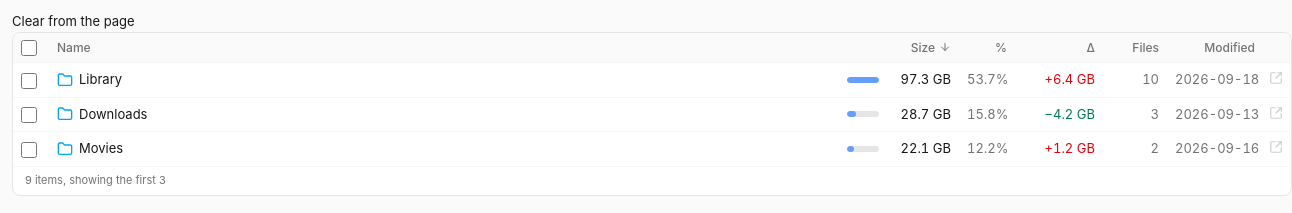
Test: NodeTable selection › shows the header box as mixed while only some rows are selected
Expected: the checkbox named "Select all shown" is not checked, top-left (21, 40), bottom-right (37, 56)
Click the checkbox named "Select Library".
click(29, 81)  # box top-left (21, 73), bottom-right (37, 89)
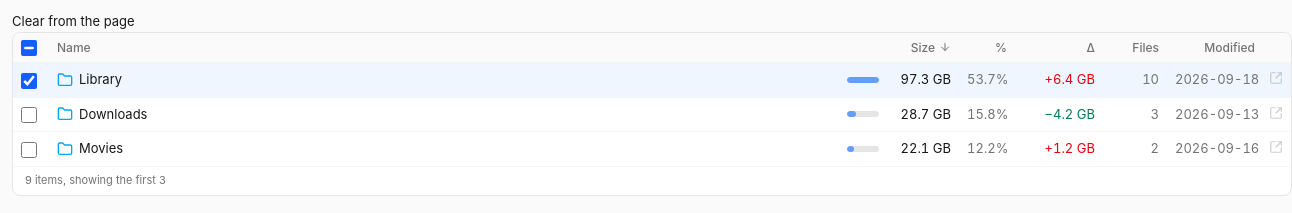
Expected: the checkbox named "Select all shown" is not checked, top-left (21, 40), bottom-right (37, 56)
Click the checkbox named "Select Downloads".
click(29, 115)  # box top-left (21, 107), bottom-right (37, 123)
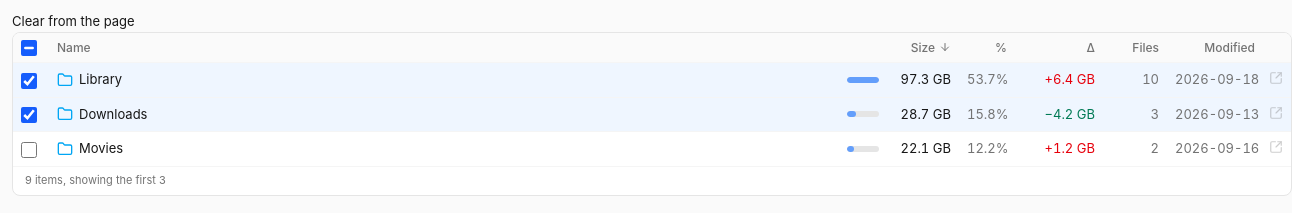
Click the checkbox named "Select Movies".
click(29, 150)  # box top-left (21, 142), bottom-right (37, 158)
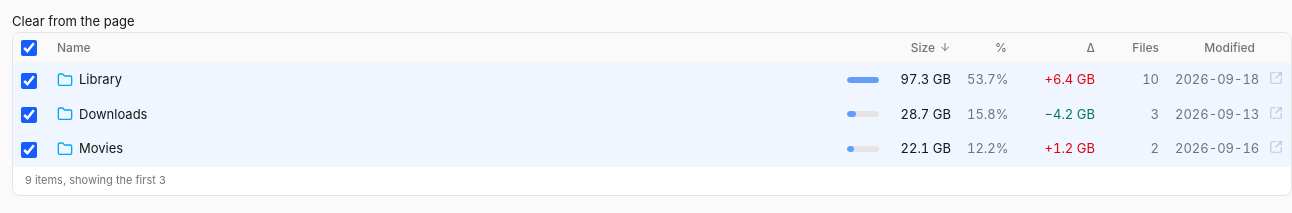
Now the checkbox named "Select all shown" is checked, box top-left (21, 40), bottom-right (37, 56)
